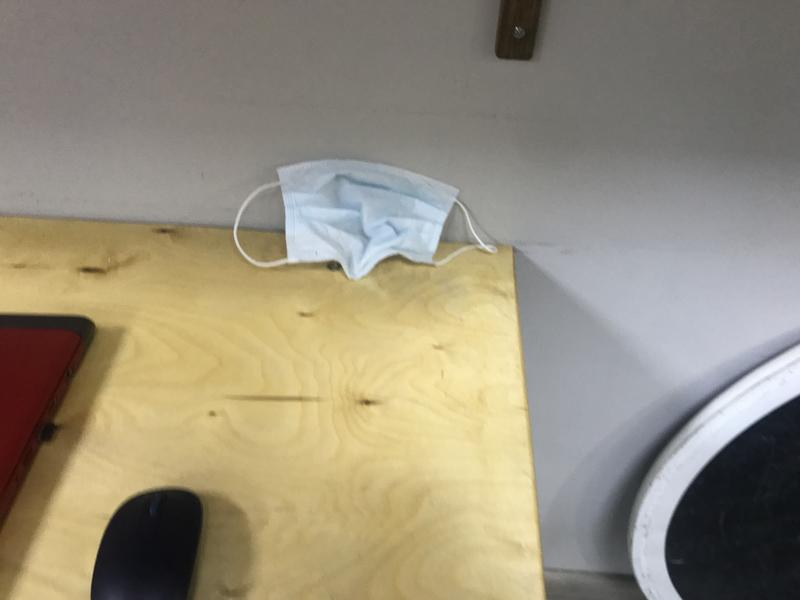medical_mask: (233, 159, 499, 279)
